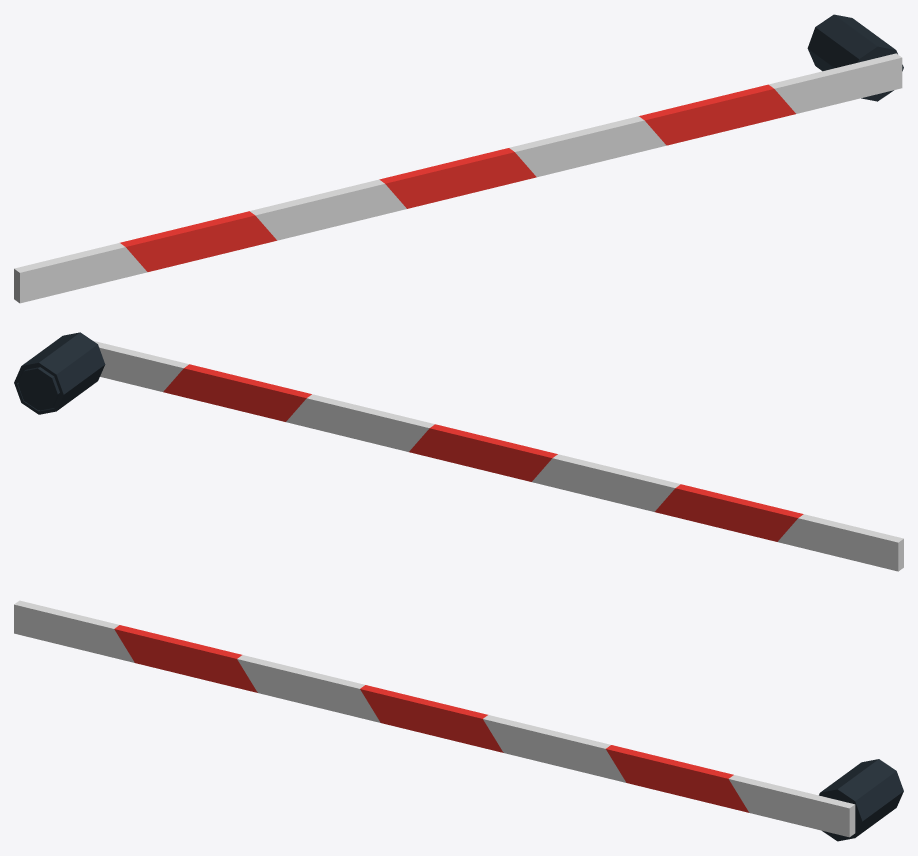
Rendered from SM_Buildings_Parking_01_Door.fbx.
The picture shows the model from 3 angles, top to bottom: view 1: azimuth 30°, elevation 25°; view 2: azimuth 150°, elevation 25°; view 3: azimuth 330°, elevation 25°; orthographic projection. The views are drawn at different scales.
Parts seen in each view (by area): view 1: SM_Buildings_Parking_01_Door; view 2: SM_Buildings_Parking_01_Door; view 3: SM_Buildings_Parking_01_Door.
Part boxes in pixels (x1,y1,x2,y2): SM_Buildings_Parking_01_Door: (14,14,903,303); SM_Buildings_Parking_01_Door: (14,332,903,571); SM_Buildings_Parking_01_Door: (14,600,903,841).
Size of the model in its own units: 4.03 by 0.2383 by 0.398.
